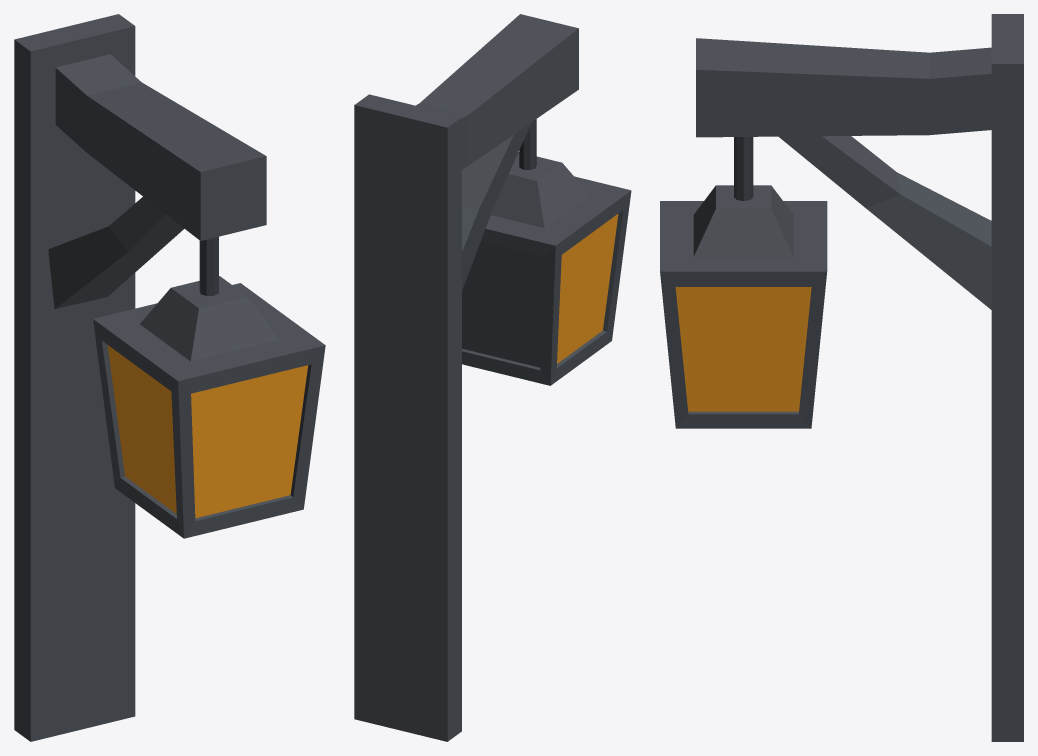
Rendered from Lamp_3.fbx.
3 views of the same model, side by side, from view 1: azimuth 30°, elevation 25°; view 2: azimuth 150°, elevation 25°; view 3: azimuth 270°, elevation 25° (orthographic). The views are drawn at different scales.
Parts seen in each view (by area): view 1: Lamp_3; view 2: Lamp_3; view 3: Lamp_3.
Part boxes in pixels (box(x1,y1,x2,y2)): Lamp_3: box(14, 14, 325, 741); Lamp_3: box(354, 14, 631, 741); Lamp_3: box(660, 14, 1023, 741).
Size of the model in its own units: 23.15 by 104 by 50.39.
